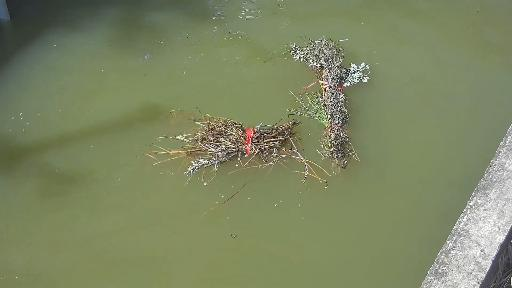twig: (289, 15, 370, 175), (178, 94, 315, 159)
